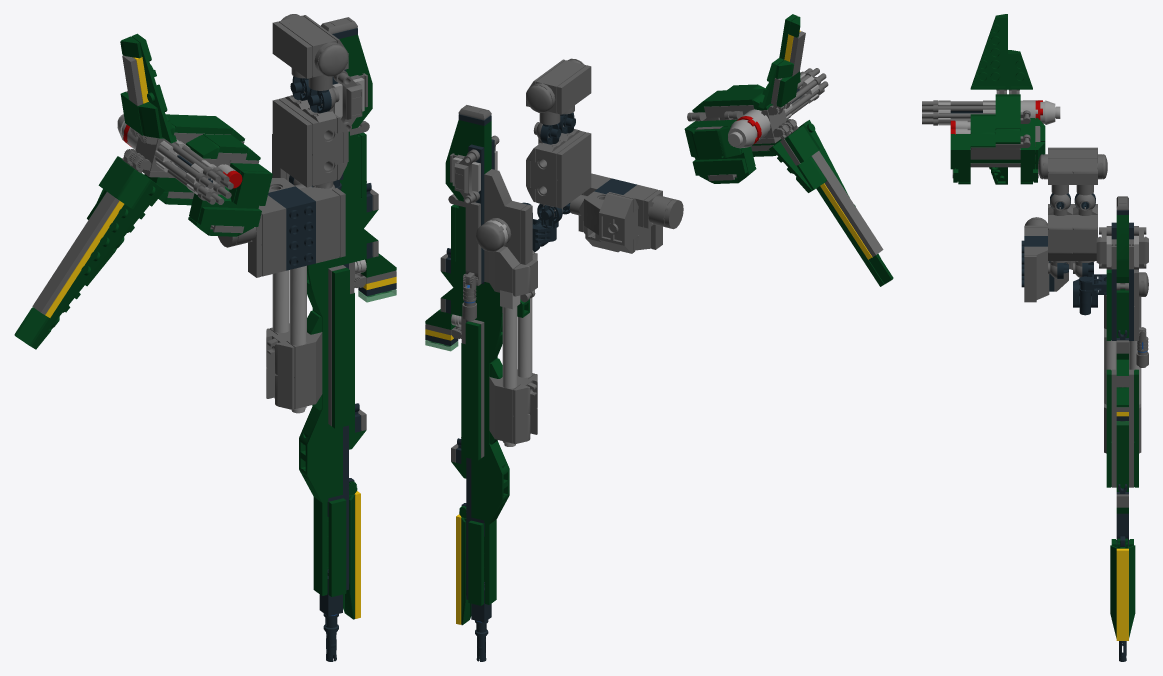
Rendered from gat-x105-strike-pack-launcher.dae.
The picture shows the model from 3 angles, left to right: view 1: azimuth 30°, elevation 25°; view 2: azimuth 150°, elevation 25°; view 3: azimuth 270°, elevation 25°; orthographic projection. The views are drawn at different scales.
Bounding box in the file's own units: 615 × 364 × 966.
